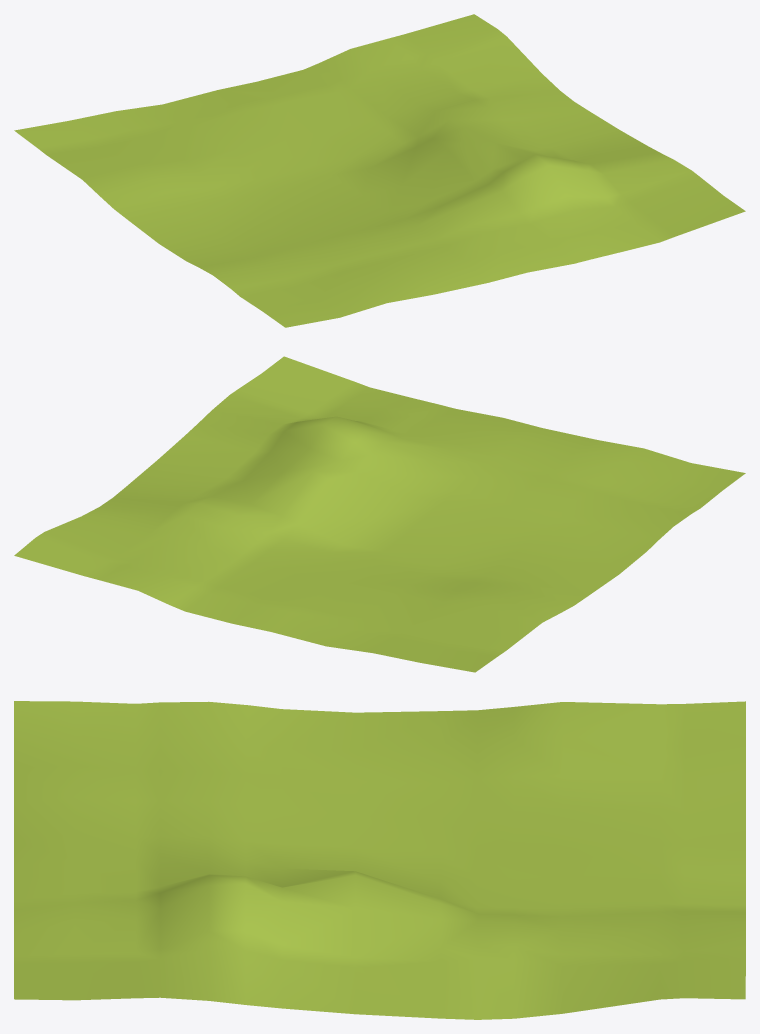
The model's file is collider_chemin_courve4.fbx.
The picture shows the model from 3 angles, top to bottom: view 1: azimuth 30°, elevation 25°; view 2: azimuth 150°, elevation 25°; view 3: azimuth 270°, elevation 25°; orthographic projection. The views are drawn at different scales.
Parts seen in each view (by area): view 1: collider_chemin_courve4; view 2: collider_chemin_courve4; view 3: collider_chemin_courve4.
Part boxes in pixels (x1,y1,x2,y2): collider_chemin_courve4: [14, 14, 745, 327]; collider_chemin_courve4: [14, 356, 745, 672]; collider_chemin_courve4: [14, 701, 745, 1019].
Size of the model in its own units: 709 by 64.32 by 720.
